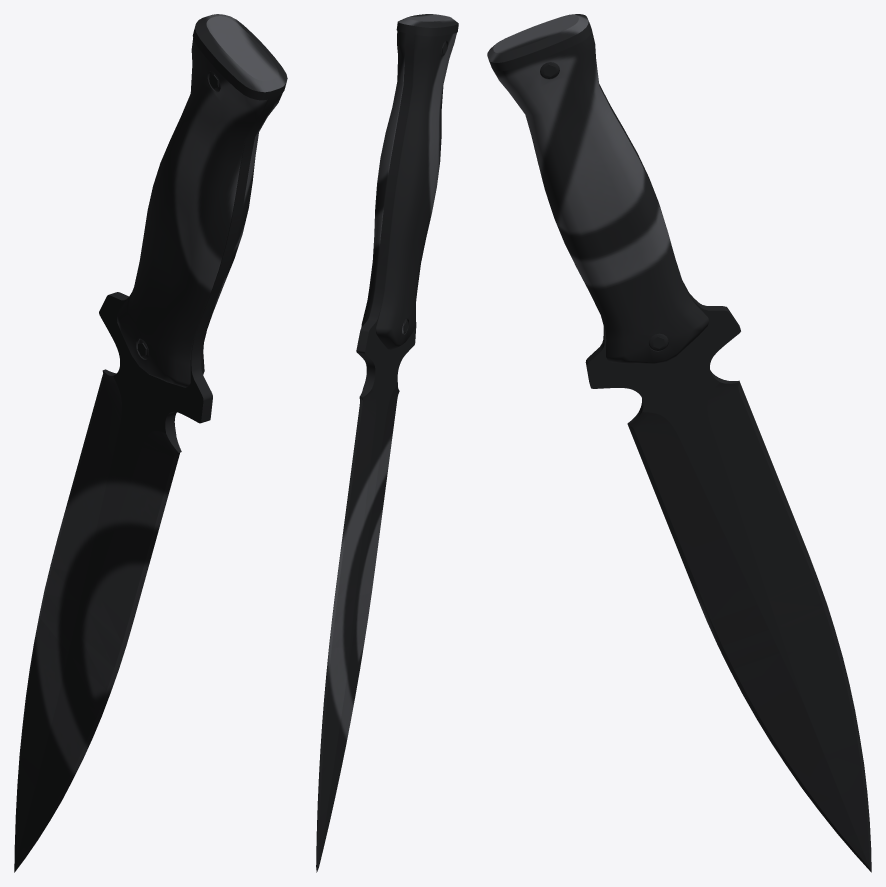
File: sting.glb
3 views of the same model, side by side, from view 1: azimuth 30°, elevation 25°; view 2: azimuth 150°, elevation 25°; view 3: azimuth 270°, elevation 25° (orthographic). The views are drawn at different scales.
Parts seen in each view (by area): view 1: L0_LOD0_17; view 2: L0_LOD0_17; view 3: L0_LOD0_17.
Boxes of the visible parts, x1,y1,x2,y2 form: L0_LOD0_17: (14,14,287,872); L0_LOD0_17: (316,14,458,872); L0_LOD0_17: (487,14,871,872).
Bounding box in the file's own units: 0.0362 × 0.4753 × 0.19.
1 material, 1 textured.
